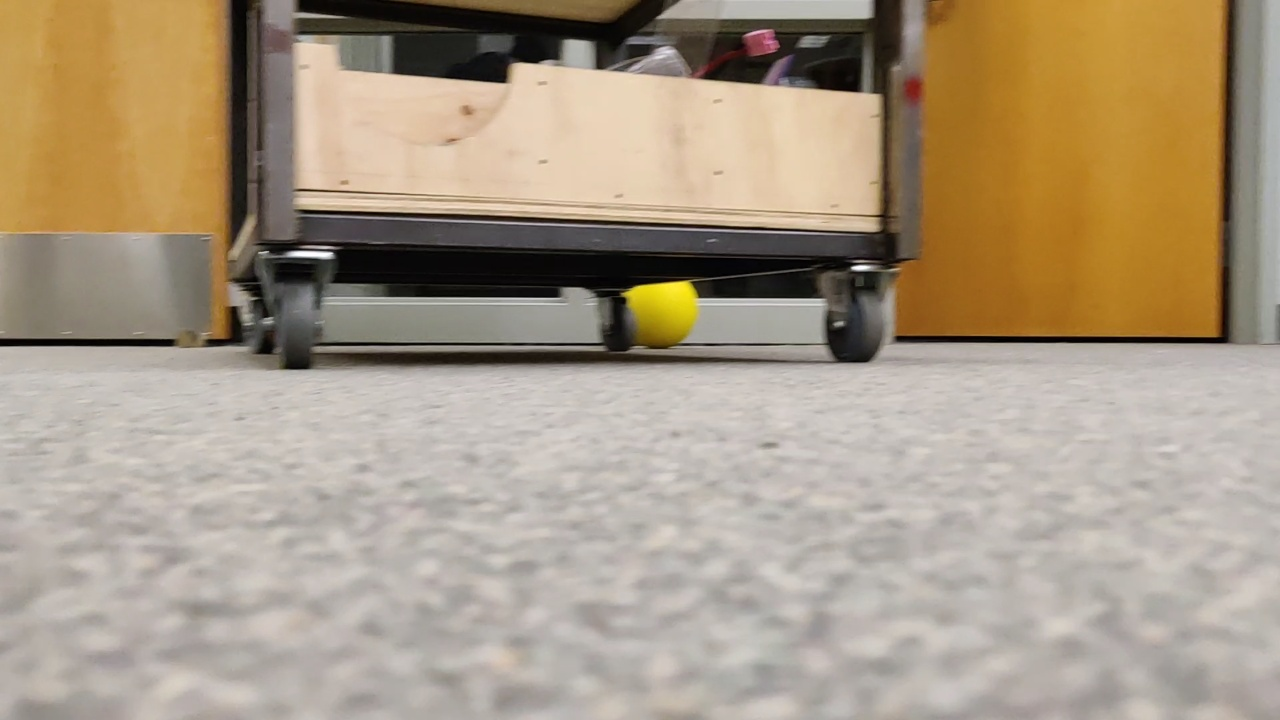Ball: (597, 271, 693, 345)
